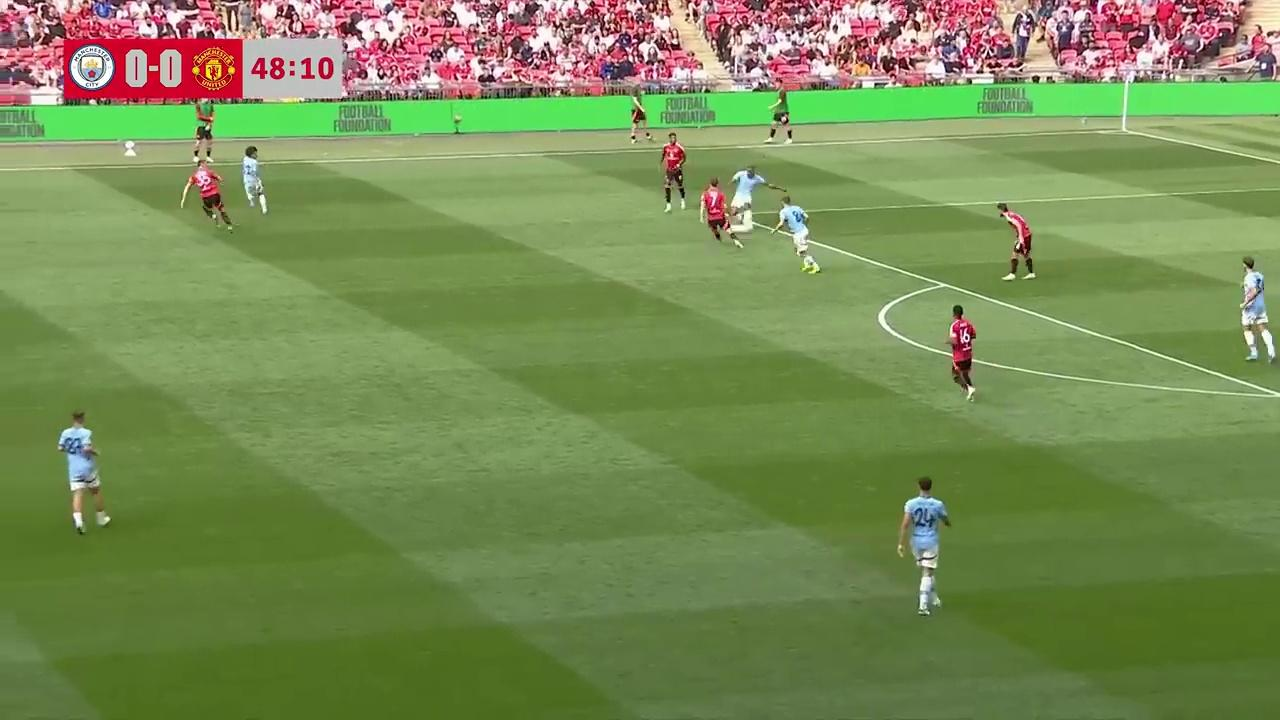ball: (740, 220, 756, 234)
player: (898, 478, 951, 618), (57, 410, 111, 535), (181, 159, 234, 229), (777, 200, 820, 274), (1240, 259, 1276, 346), (946, 304, 977, 401), (1240, 285, 1278, 364), (699, 178, 740, 245), (998, 205, 1034, 280), (729, 166, 777, 222), (660, 139, 687, 212), (240, 146, 267, 215)
